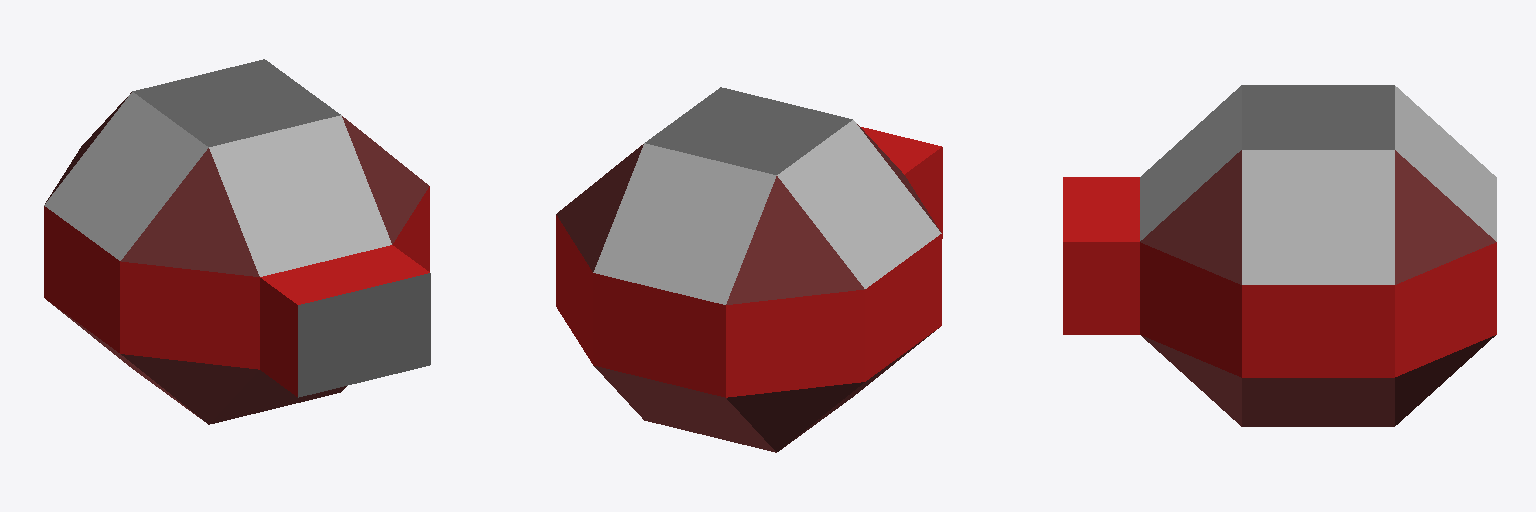
The model's file is Enemy_Sentinal.obj.
3 renders of one model, left to right at view 1: azimuth 30°, elevation 25°; view 2: azimuth 150°, elevation 25°; view 3: azimuth 270°, elevation 25°, orthographic.
Size of the model in its own units: 0.42 by 0.36 by 0.51.